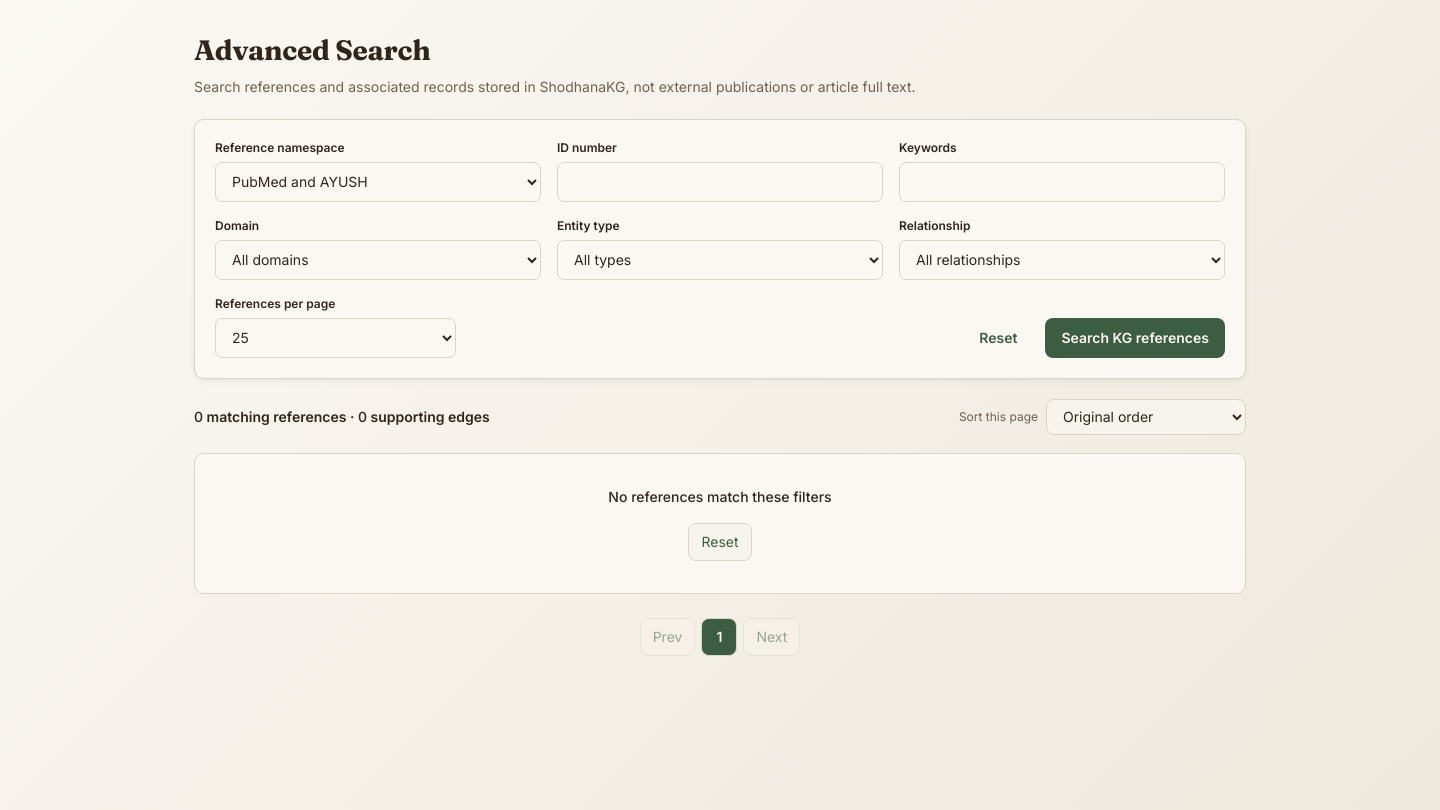
Test: never submits stale dependent filters while the new domain metadata is pending
Later steps or results of the test are not shown.
Select "Compound" in the dropdown labelled "Entity type" at (720, 260), box [557, 240, 883, 280]
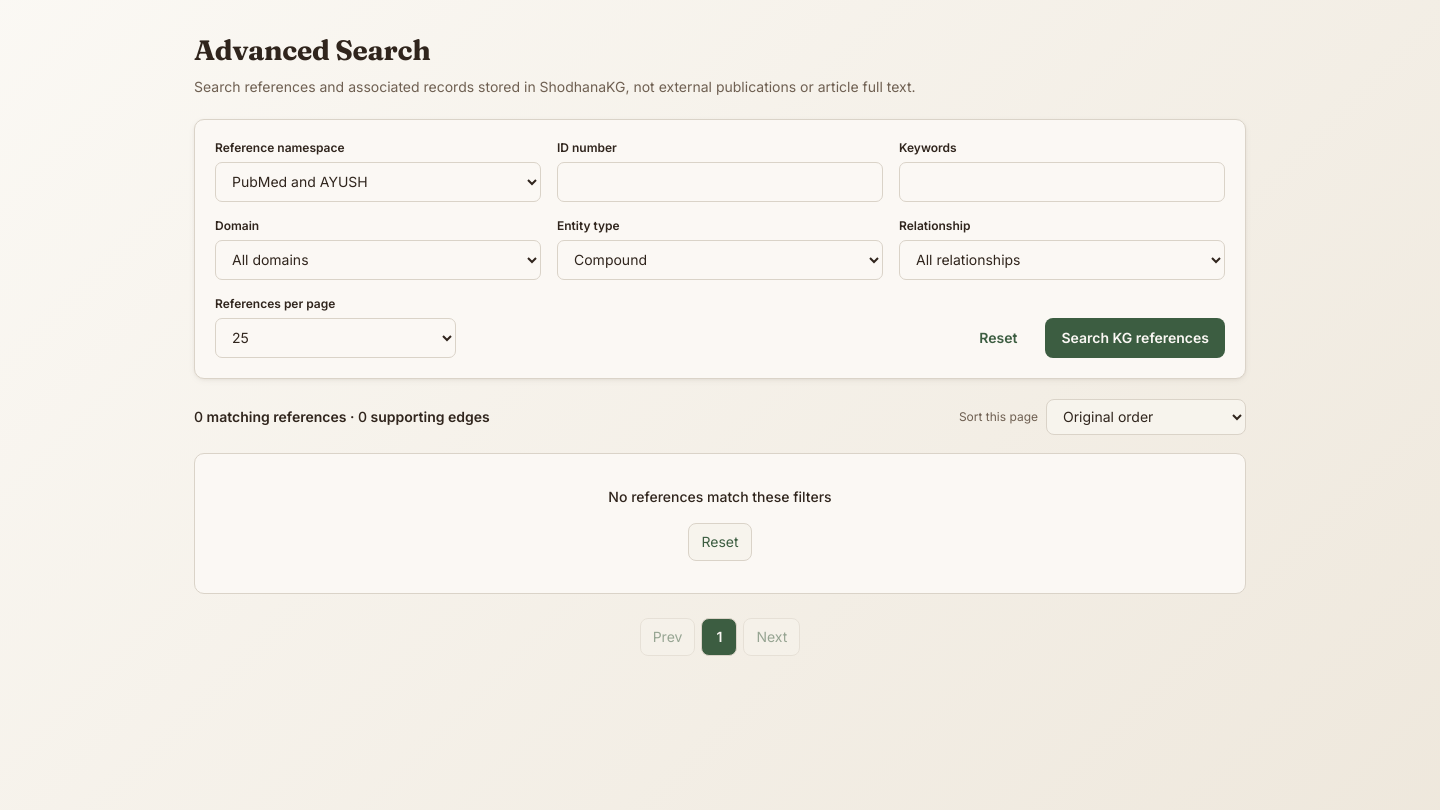
Select "UNDERGOES" in the dropdown labelled "Relationship" at (1062, 260), box [899, 240, 1225, 280]
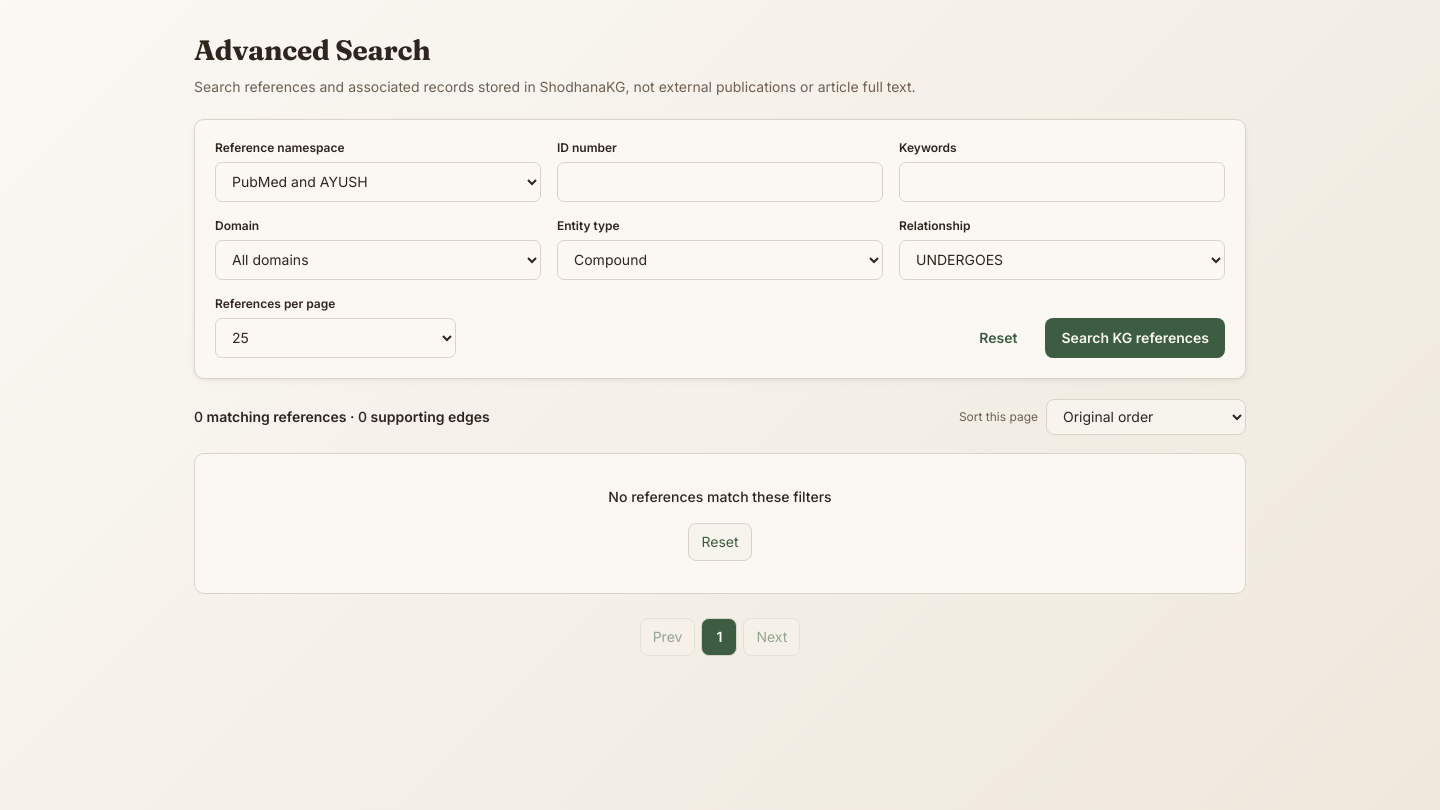
Select "Disease" in the dropdown labelled "Domain" at (378, 260), box [215, 240, 541, 280]
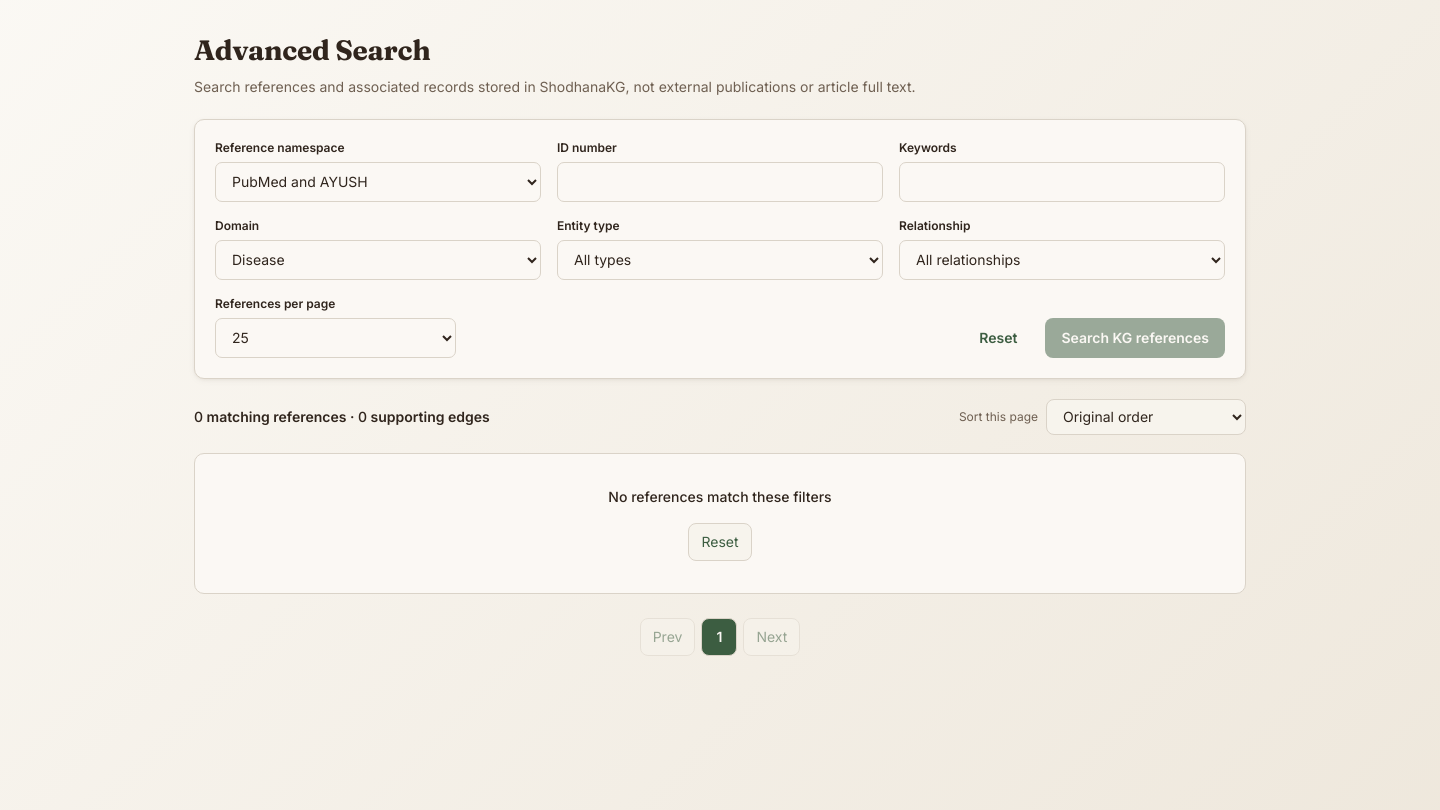
Submit the form named "Search KG references", box [194, 119, 1246, 379]
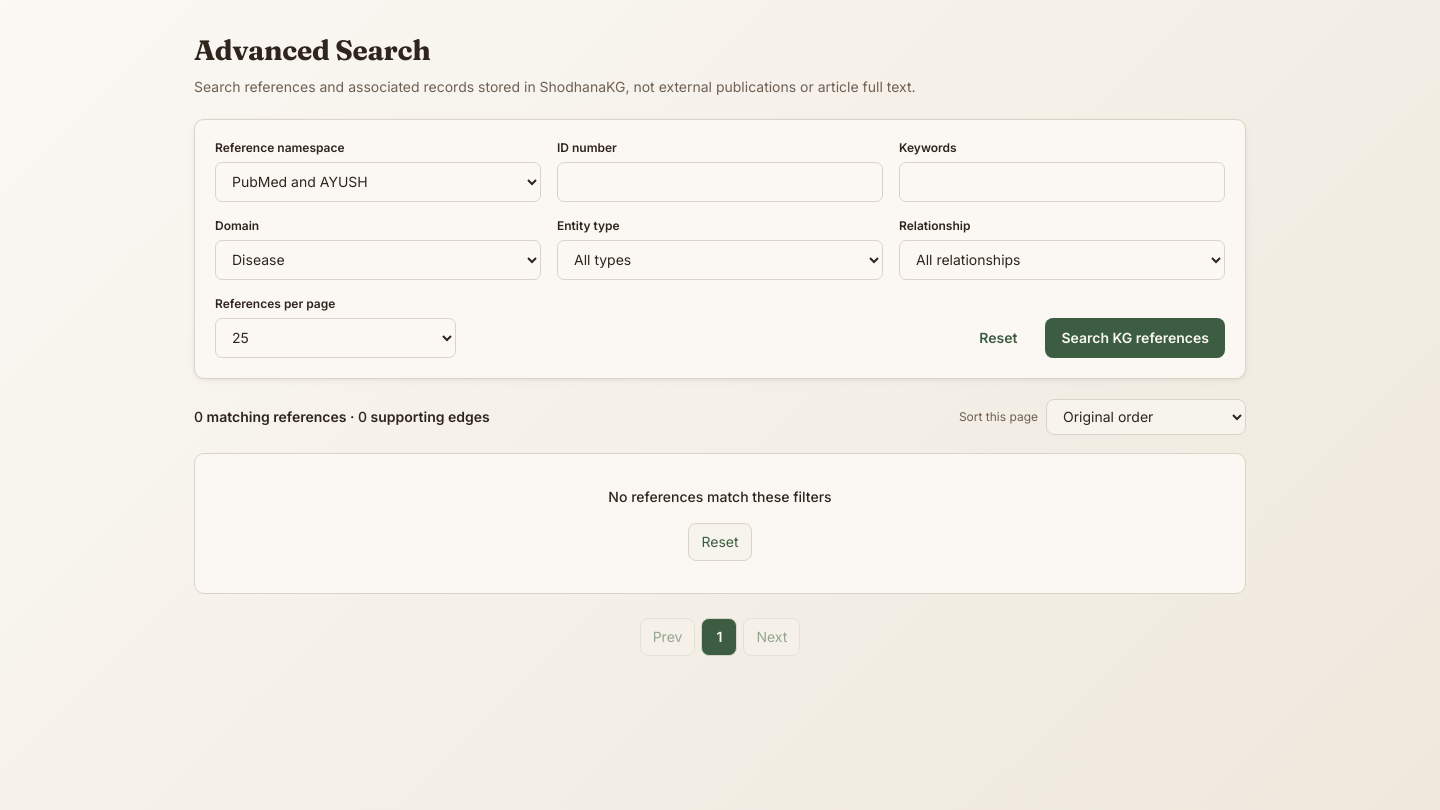
Expected: the button "Search KG references" is enabled, [1046, 318, 1225, 358]
